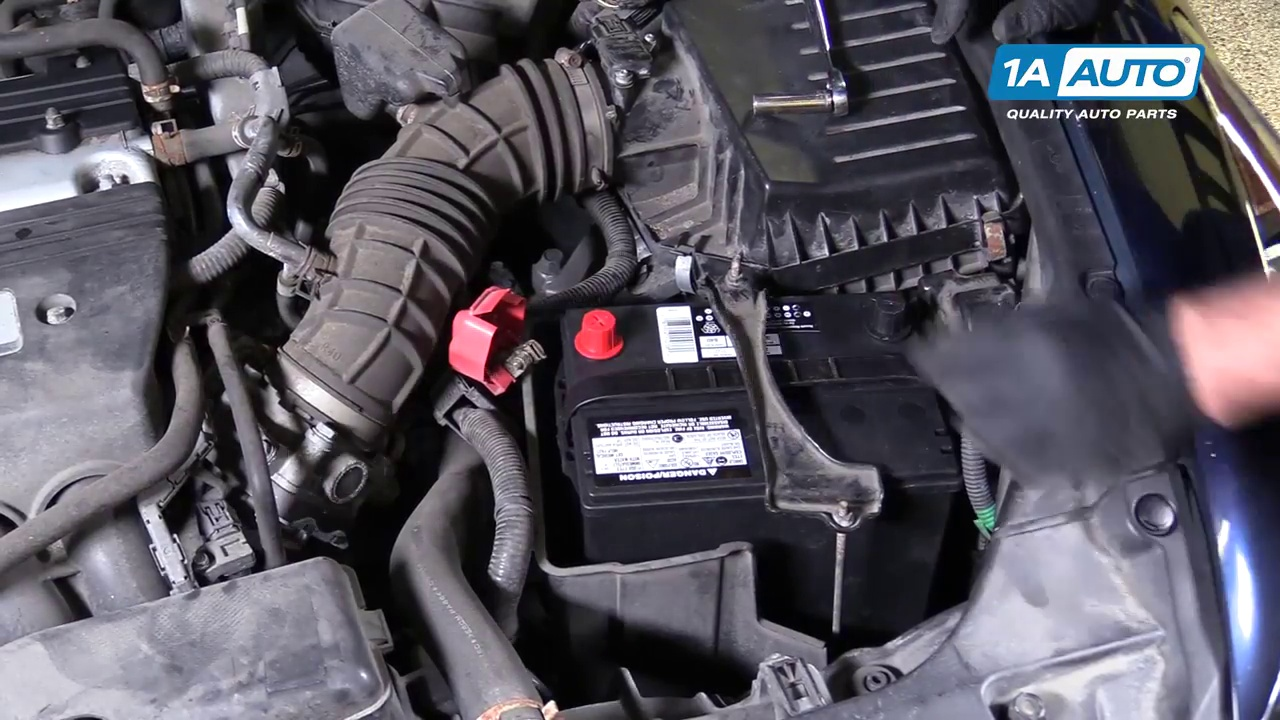battery: (550, 292, 946, 494)
pos_disconnected: (428, 276, 623, 390)
